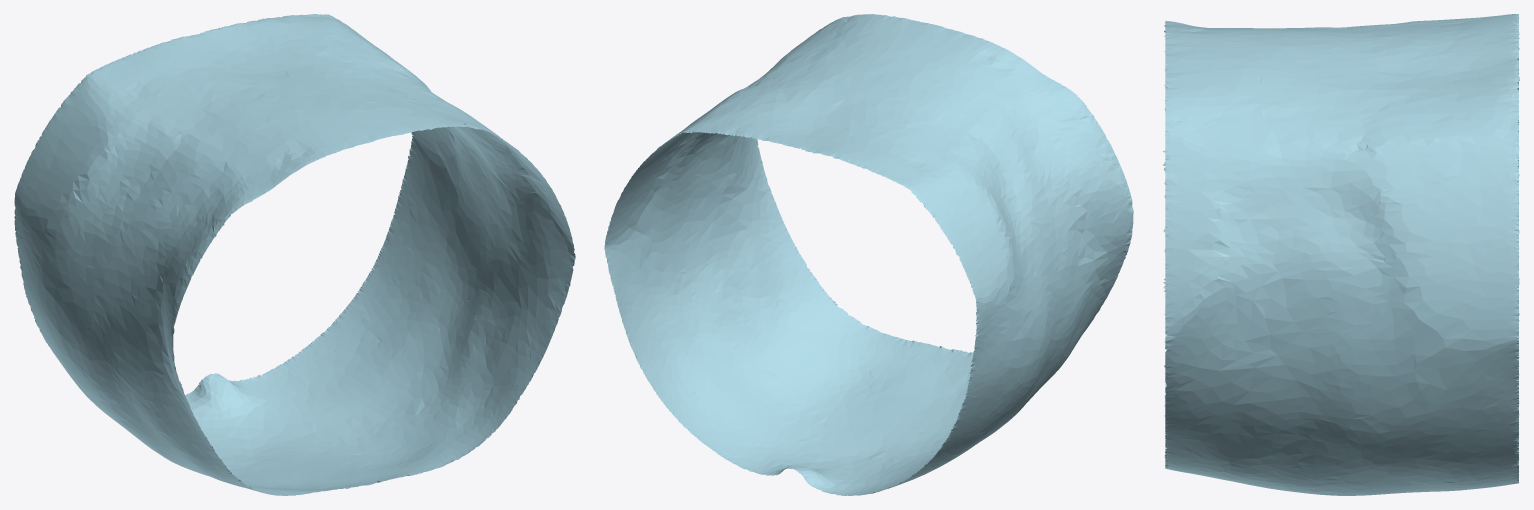
File: skin.obj
3 views of the same model, side by side, from view 1: azimuth 30°, elevation 25°; view 2: azimuth 150°, elevation 25°; view 3: azimuth 270°, elevation 25° (orthographic). The views are drawn at different scales.
Parts seen in each view (by area): view 1: grp1; view 2: grp1; view 3: grp1.
Boxes of the visible parts, bbox=[...] form: grp1: bbox=[14, 14, 575, 495]; grp1: bbox=[604, 14, 1133, 495]; grp1: bbox=[1163, 14, 1519, 495].
Bounding box in the file's own units: 349 × 315 × 247.
